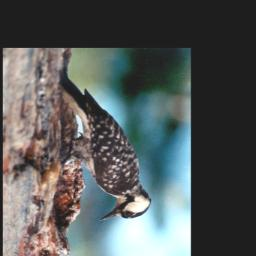Woodpecker: (53, 66, 163, 224)
